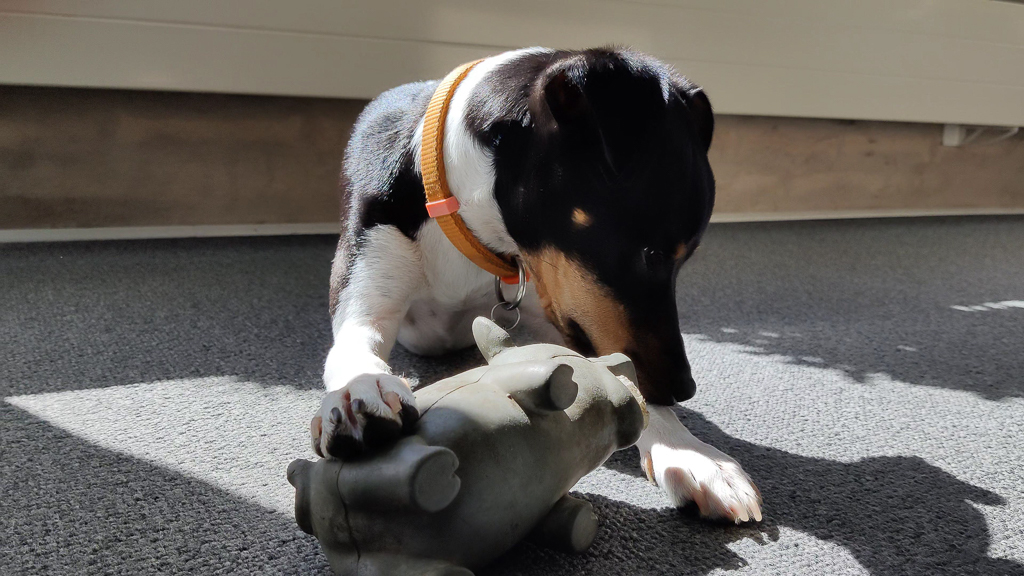Dog: (280, 41, 807, 532)
